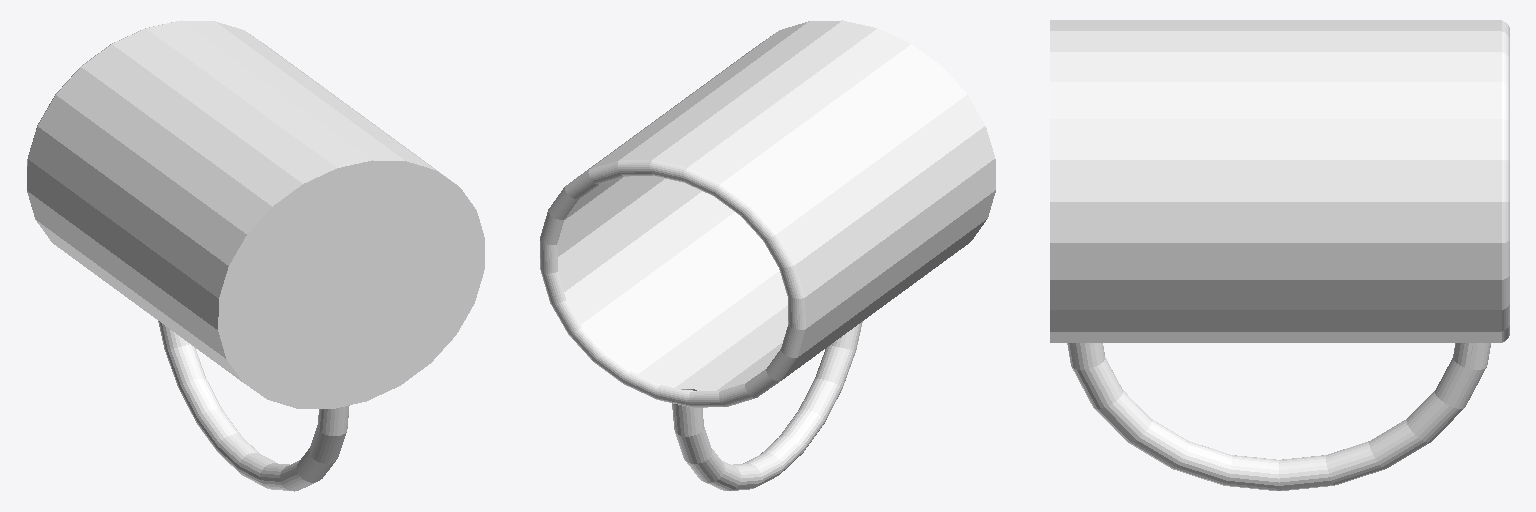
The robot description file, URDF, robot "test.urdf":
<?xml version="1.0" ?>
<robot name="test.urdf">
  <link name="baseLink">
    <contact>
      <lateral_friction value="1.0"/>
      <spinning_friction value="0.5"/>
      <rolling_friction value="0.5"/>
      <inertia_scaling value="3.0"/>
    </contact>
    <inertial>
      <origin rpy="0 0 0" xyz="0.00 0 0.00"/>
       <mass value=".1"/>
       <inertia ixx="1" ixy="0" ixz="0" iyy="1" iyz="0" izz="1"/>
    </inertial>
    <visual>
      <origin rpy="0 0 0" xyz="0 0 0"/>
      <geometry>
				<mesh filename="model_normalized.obj" scale="1 1 1"/>
      </geometry>
       <material name="white">
        <color rgba="1 1 1 1"/>
      </material>
    </visual>
    <collision>
      <origin rpy="0 0 0" xyz="0 0 0"/>
      <geometry>
	 	<mesh filename="model_normalized_convex.obj" scale="1 1 1"/>
      </geometry>
    </collision>
  </link>
</robot>

--- What the picture shows (computed from the rendered views, not written in the file) ---
Views: 3 orthographic renders of the robot side by side, from view 1: azimuth 30°, elevation 25°; view 2: azimuth 150°, elevation 25°; view 3: azimuth 270°, elevation 25°.
Model test.urdf with 1 links and 0 joints (none), rooted at baseLink, posed every joint at zero.
Links seen in each view (by area): view 1: baseLink; view 2: baseLink; view 3: baseLink.
Link boxes in pixels (left/top/right/bottom): baseLink: left=27, top=20, right=484, bottom=491; baseLink: left=540, top=20, right=995, bottom=490; baseLink: left=1050, top=20, right=1509, bottom=490.
Bounding box of the posed robot: 0.4732 × 0.5977 × 0.6472 m (x, y, z).
1 mesh visuals loaded from 1 distinct referenced files (1 OBJ).